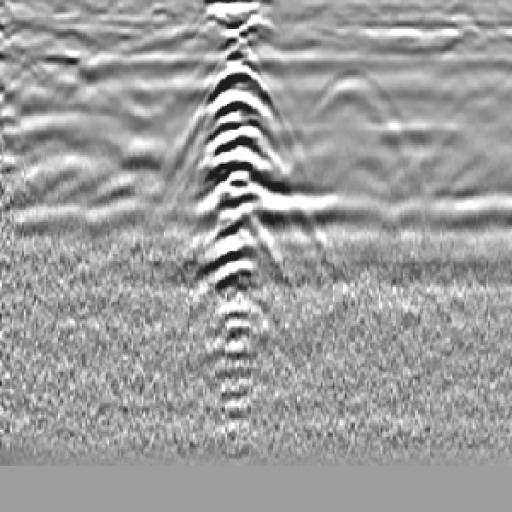metalic: (193, 37, 283, 406)
nonmetalic: (290, 65, 427, 210)
